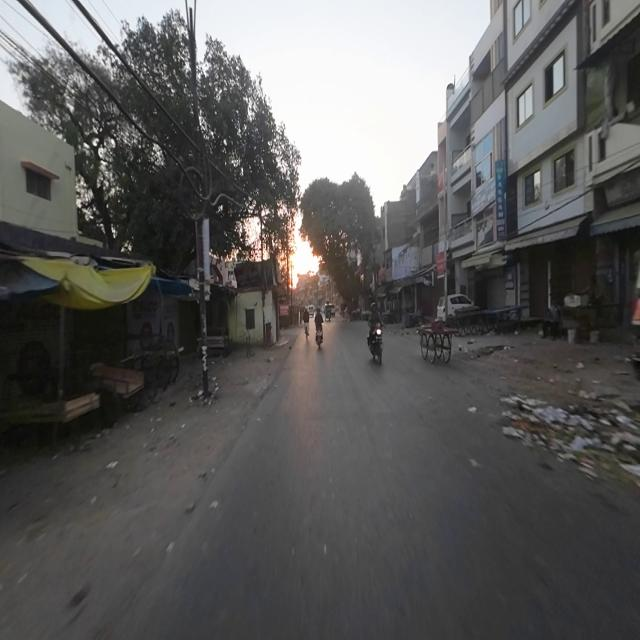Garbage: (502, 392, 636, 476)
